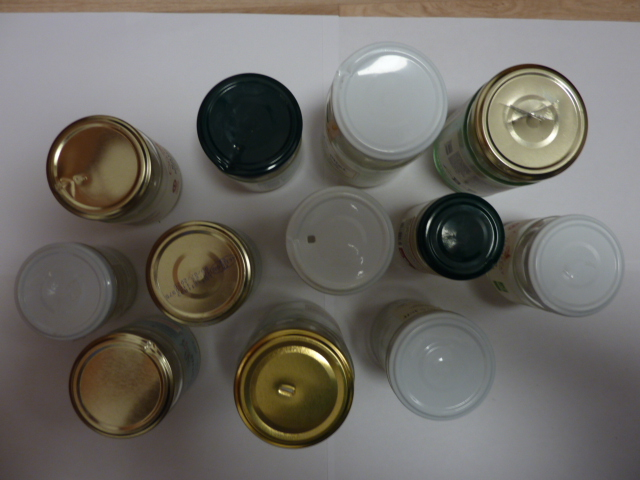damaged: (235, 331, 352, 449)
intact: (420, 192, 506, 281)
